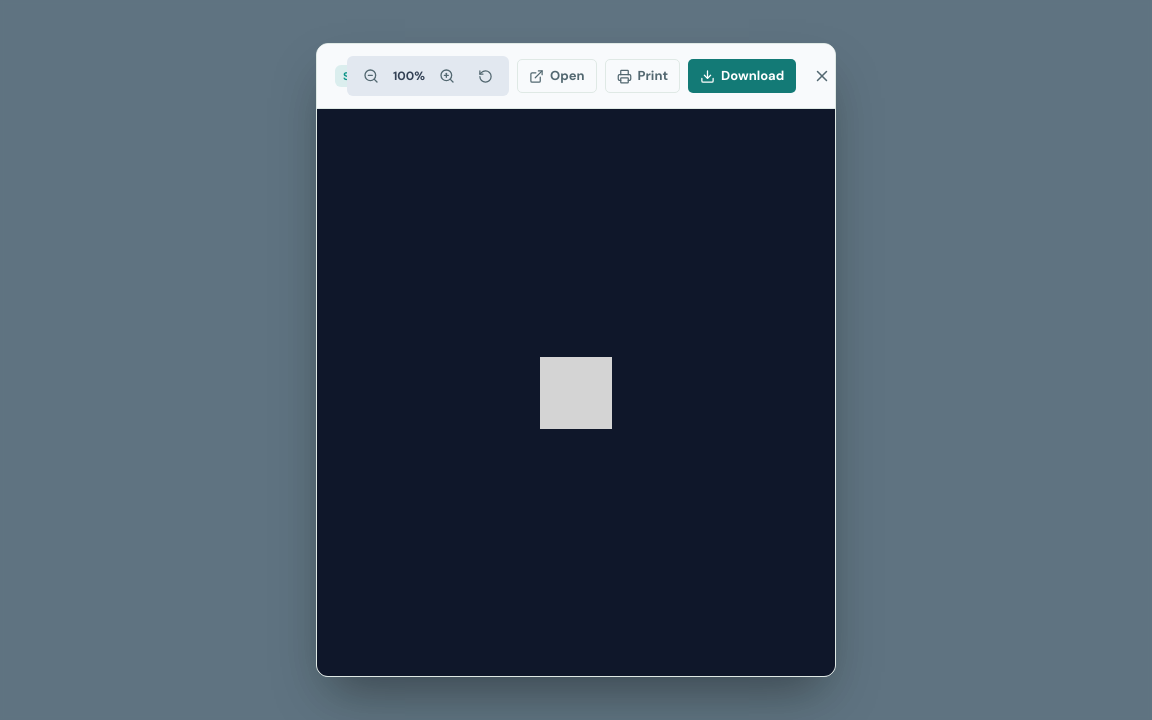
Test case: RecordViewer component states › renders image state with <img> element and zoom controls
Expected: the text "100%" is shown, [391,67,427,85]
Click the button named "zoom in" at (447, 76), box [429,58,465,94]
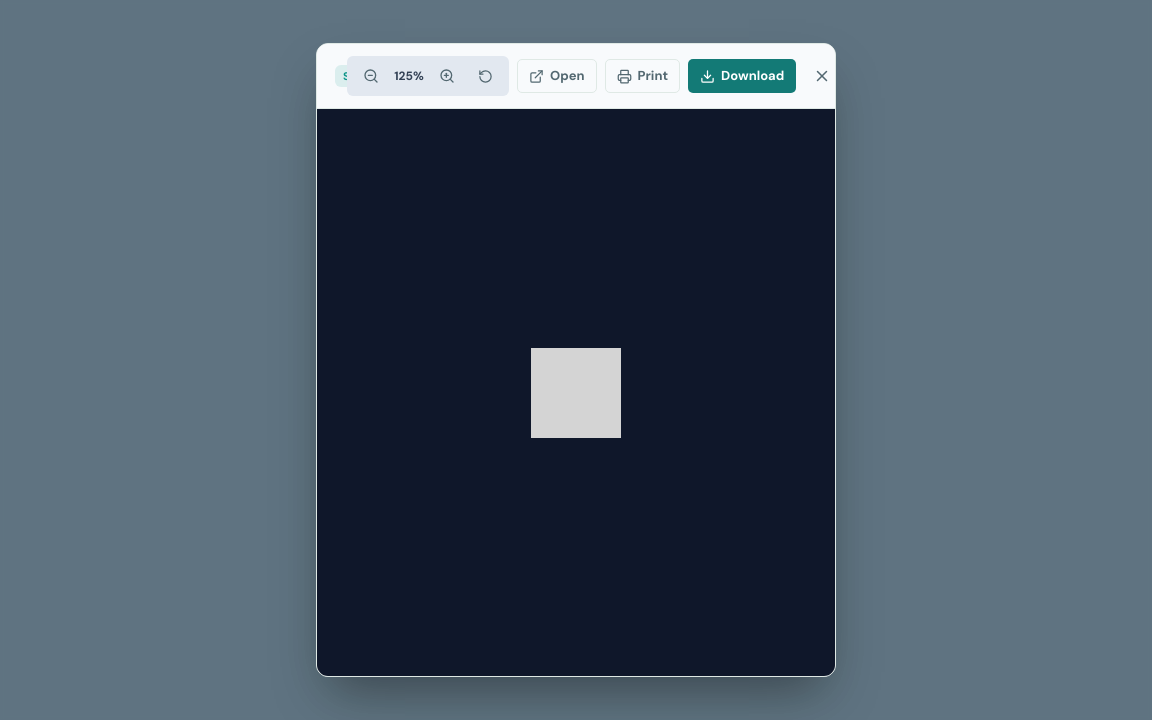
Expected: the text "125%" is shown, [394,68,424,84]
Click the button named "zoom out" at (371, 76), box [353,58,389,94]
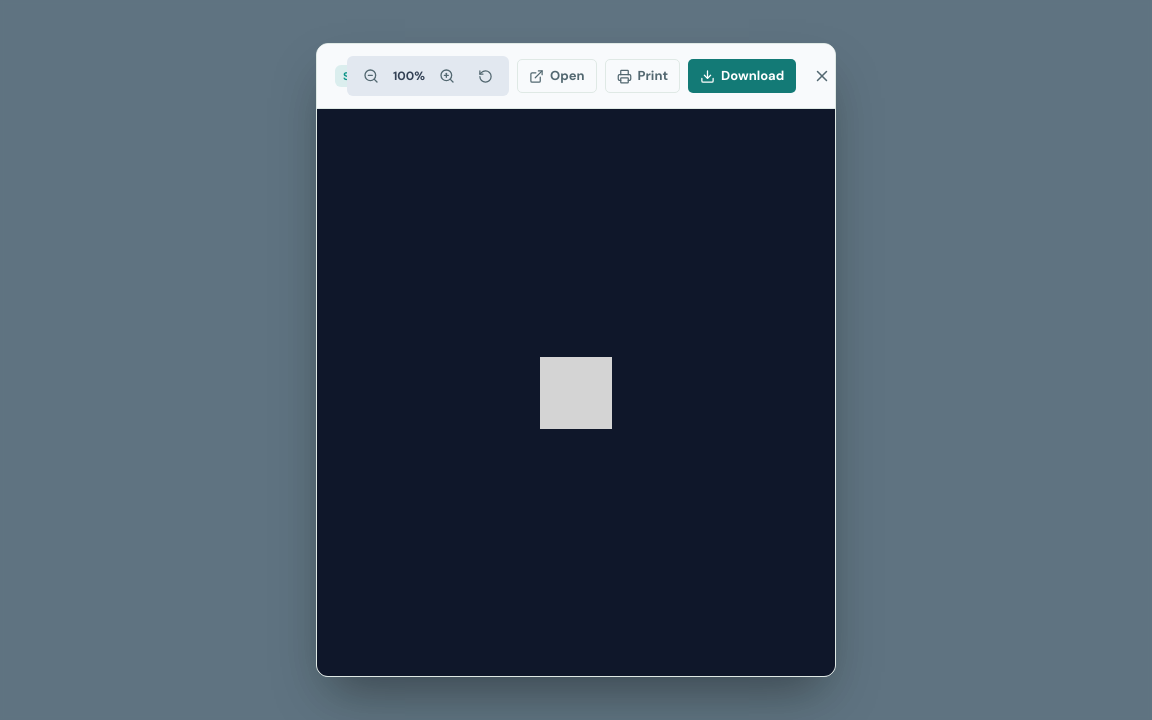
Expected: the text "100%" is shown, [391,67,427,85]
